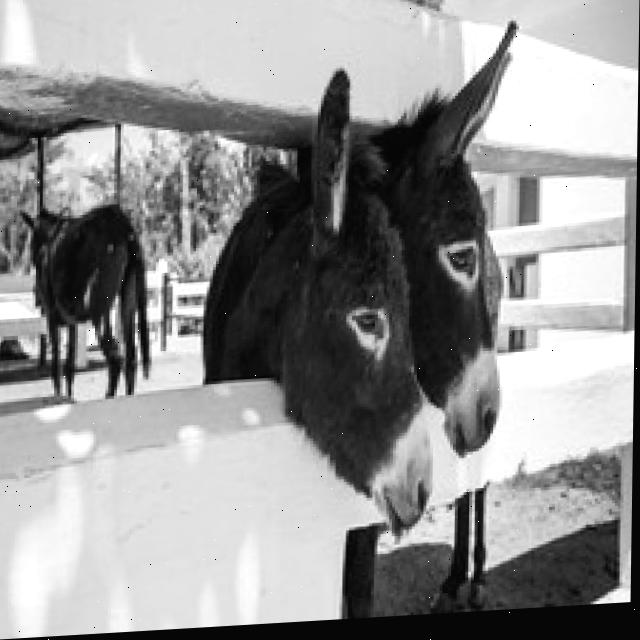Donkey: (196, 18, 517, 625), (356, 18, 517, 464), (14, 199, 154, 402)
